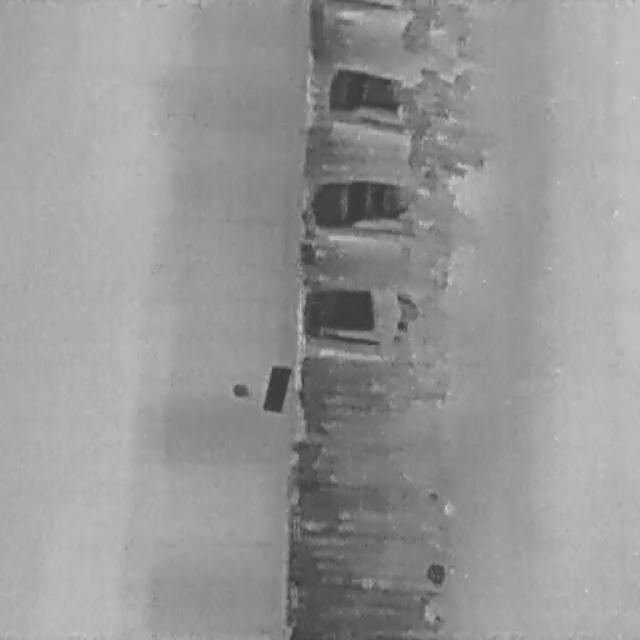Car: (295, 278, 428, 358), (323, 61, 447, 138), (309, 176, 435, 238)
